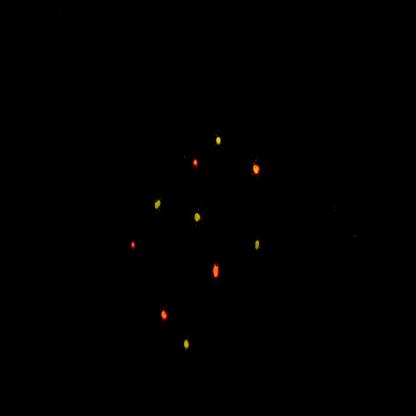PE: (189, 204, 206, 234), (149, 192, 167, 217), (178, 334, 195, 357), (214, 129, 227, 154), (252, 234, 265, 259)
PVC: (247, 155, 270, 189), (209, 257, 227, 283), (124, 235, 140, 263), (156, 302, 174, 326), (186, 152, 203, 177)
